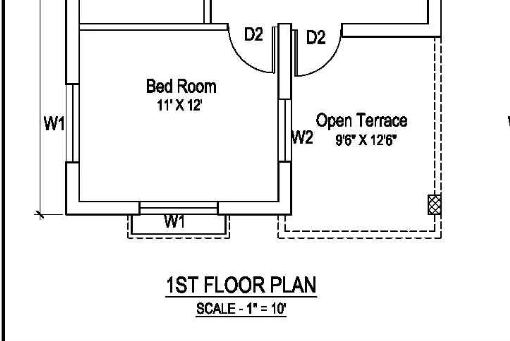door: (220, 13, 277, 76), (292, 14, 344, 79)
window: (54, 73, 96, 168), (132, 192, 221, 226)
